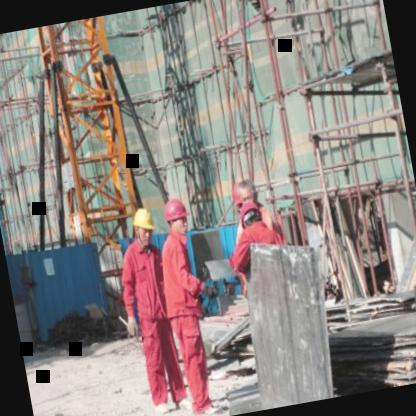helmet: (160, 196, 190, 238), (130, 204, 158, 248), (236, 200, 264, 230), (227, 181, 249, 211)
